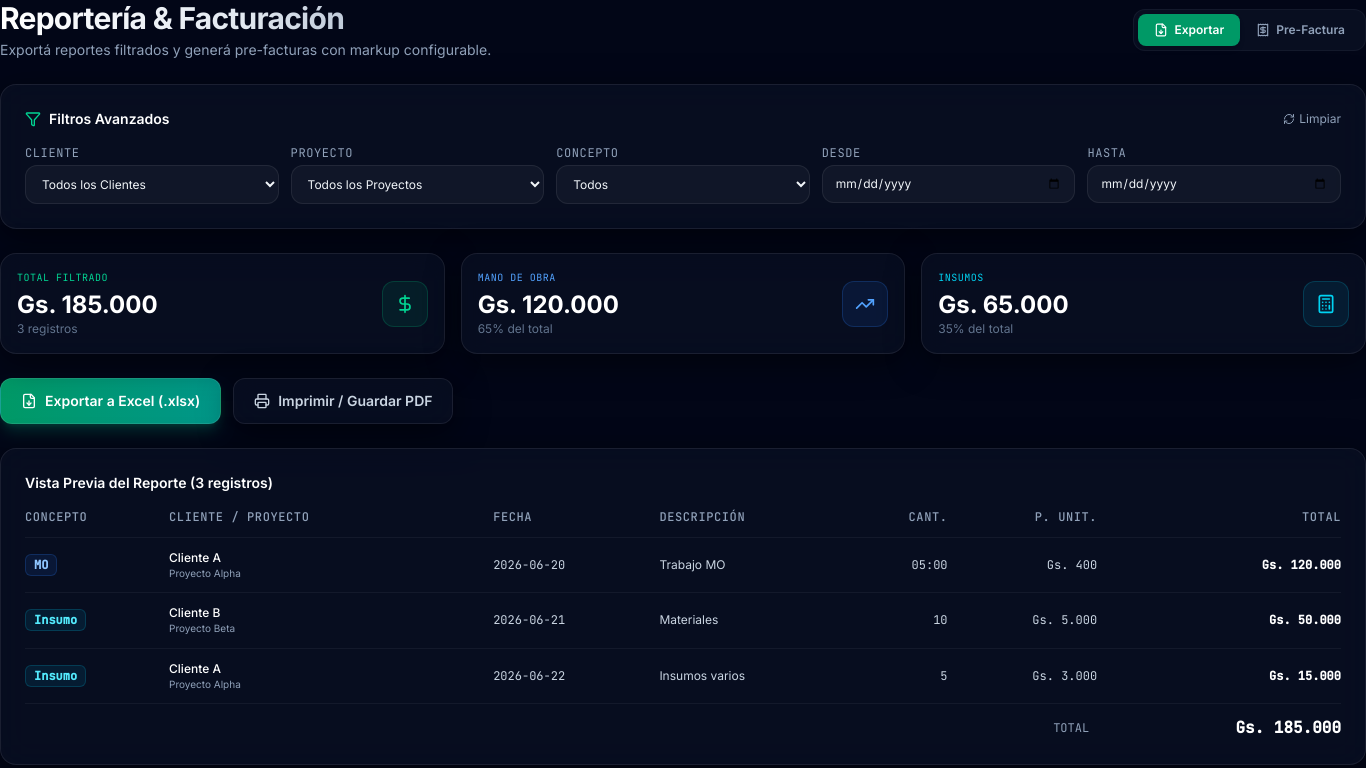
Test: Reportes › Filters › should filter registros by concepto (MO)
The width and height of the screenshot is (1366, 768).
Get concepto select (third combobox)
Select "Mano de Obra" in the 3rd dropdown at (683, 184), box [556,165,810,204]
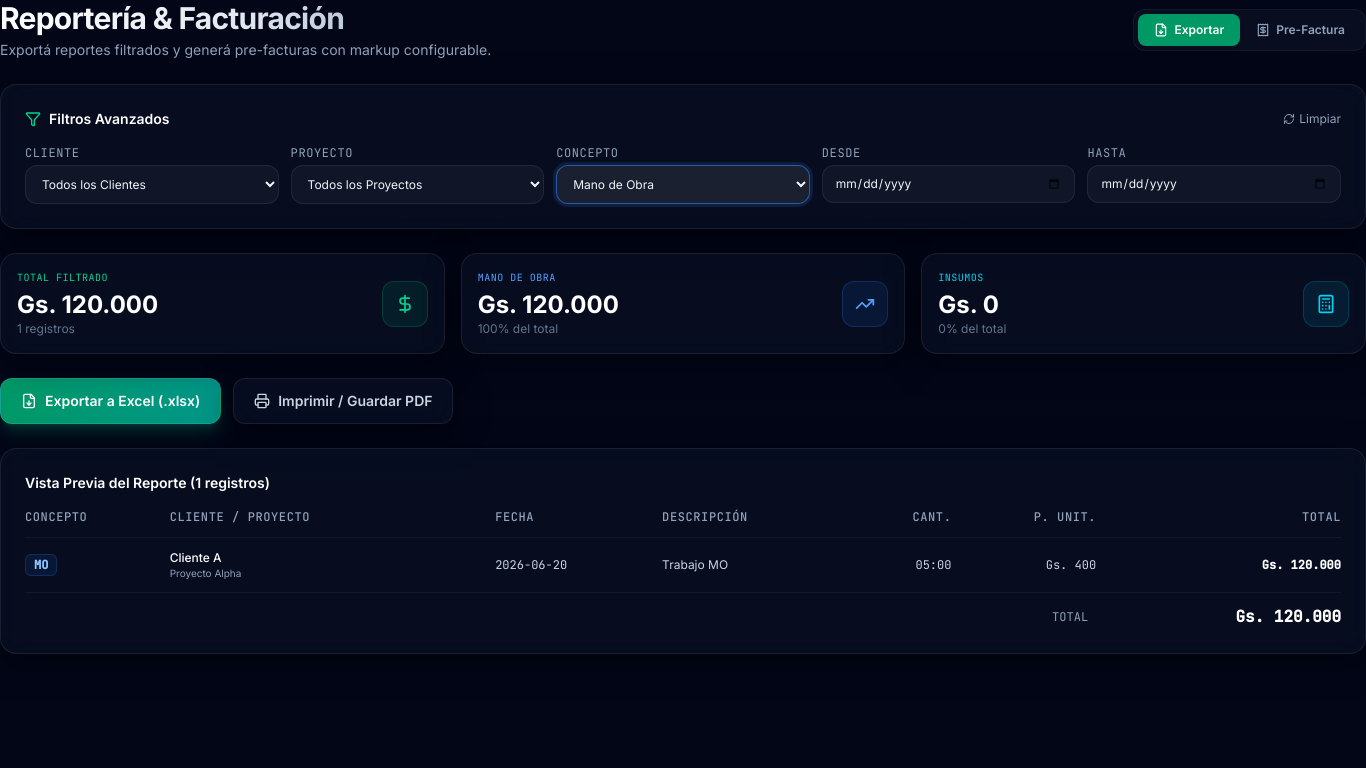
Now the text "Gs. 120.000" below "Total Filtrado" is shown, box [17,290,158,319]
